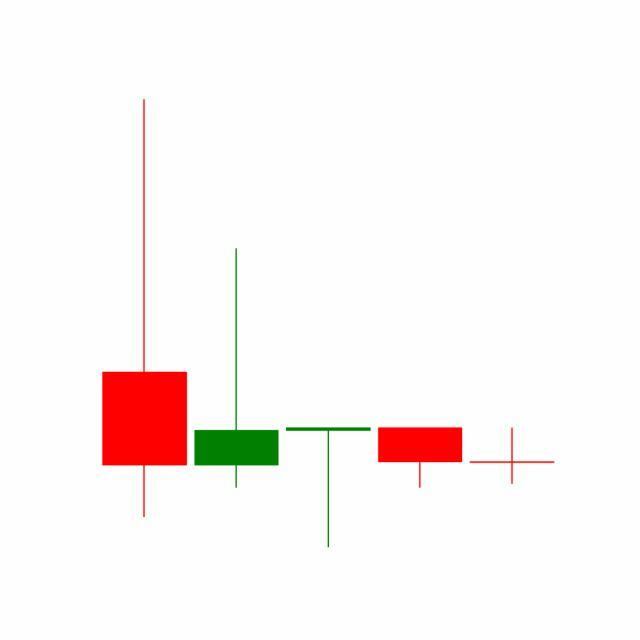Gravestone Doji: (466, 427, 559, 486)
